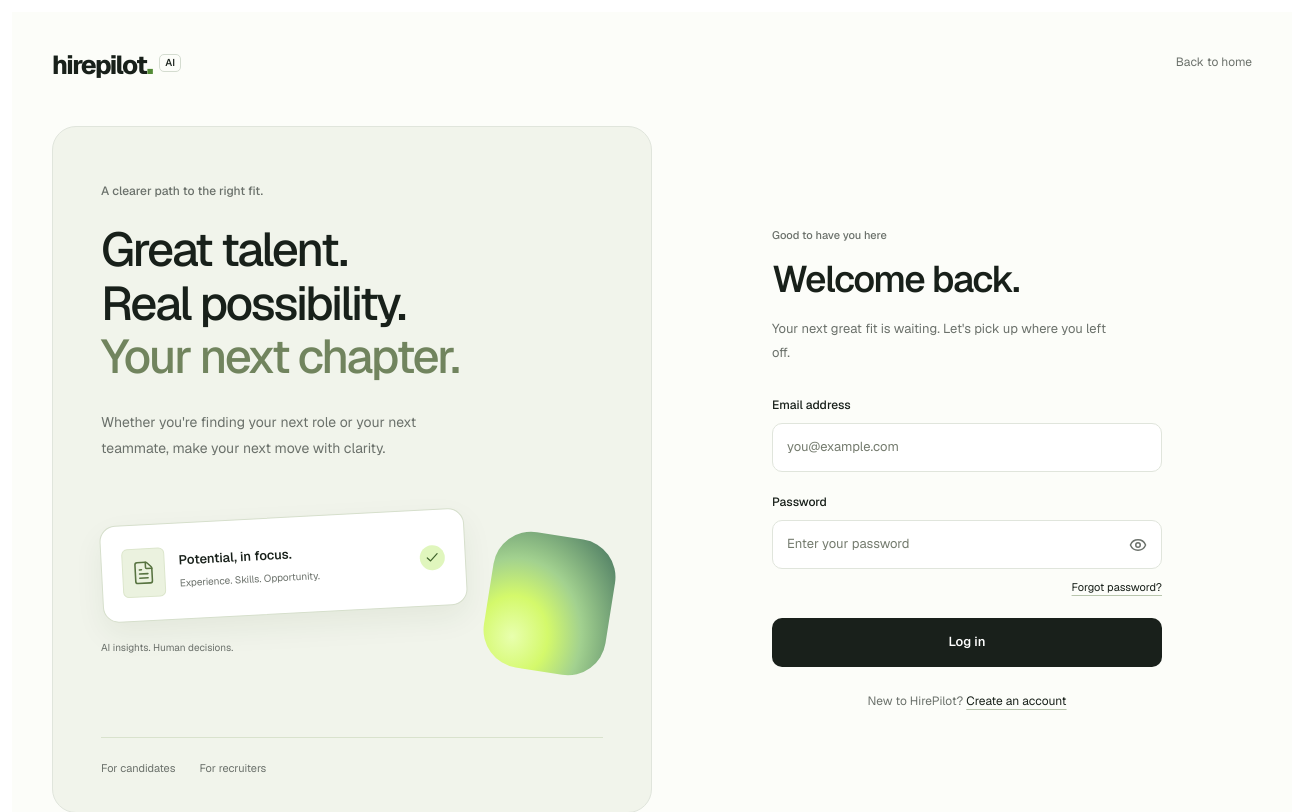
Test case: real forms, provider, API client, and route guards › logs in alex@example.com and redirects by role
The image size is (1292, 812).
Expected: the heading "Welcome back." is shown, [772, 255, 1019, 303]
Step 1. Type "alex@example.com" into the field labelled "Email address" → (967, 448), box [772, 423, 1162, 472]
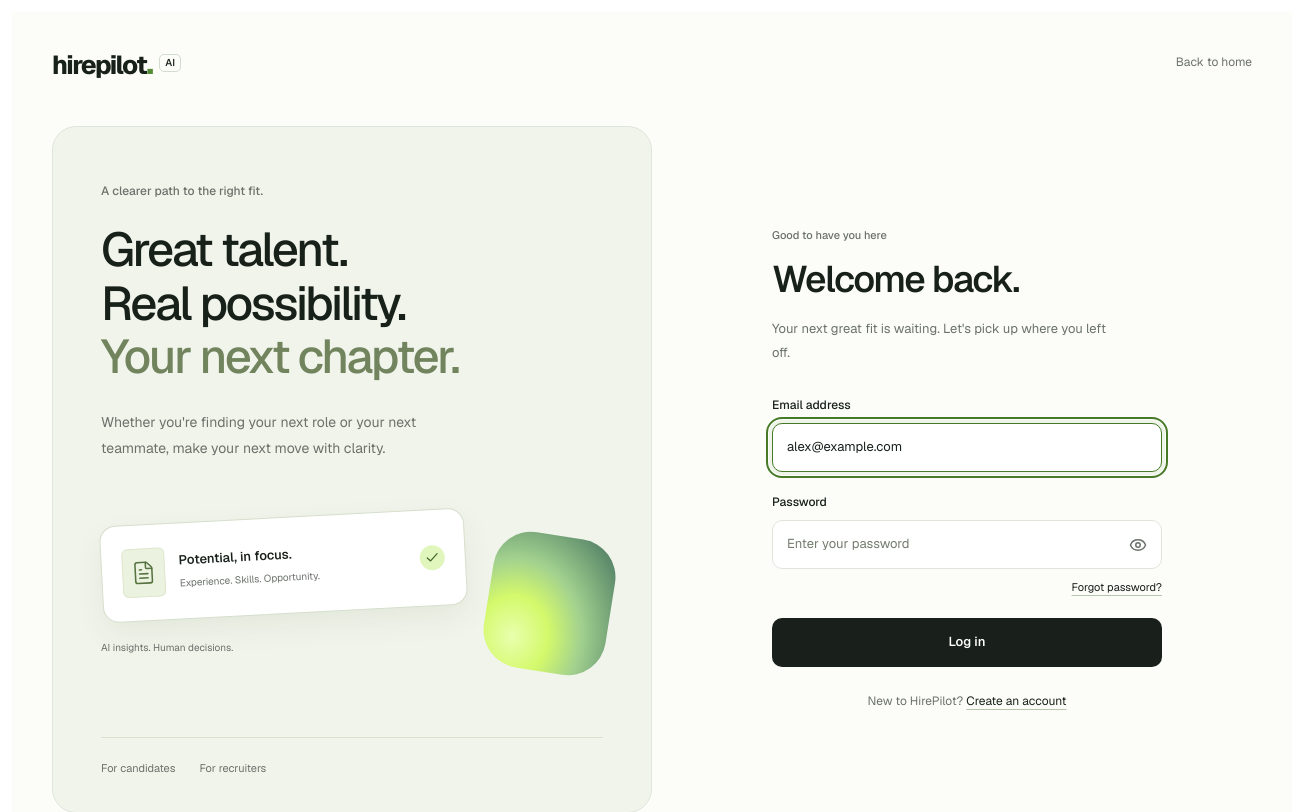
Step 2. Type "password123" into the password field labelled "Password" → (967, 545), box [772, 520, 1162, 569]
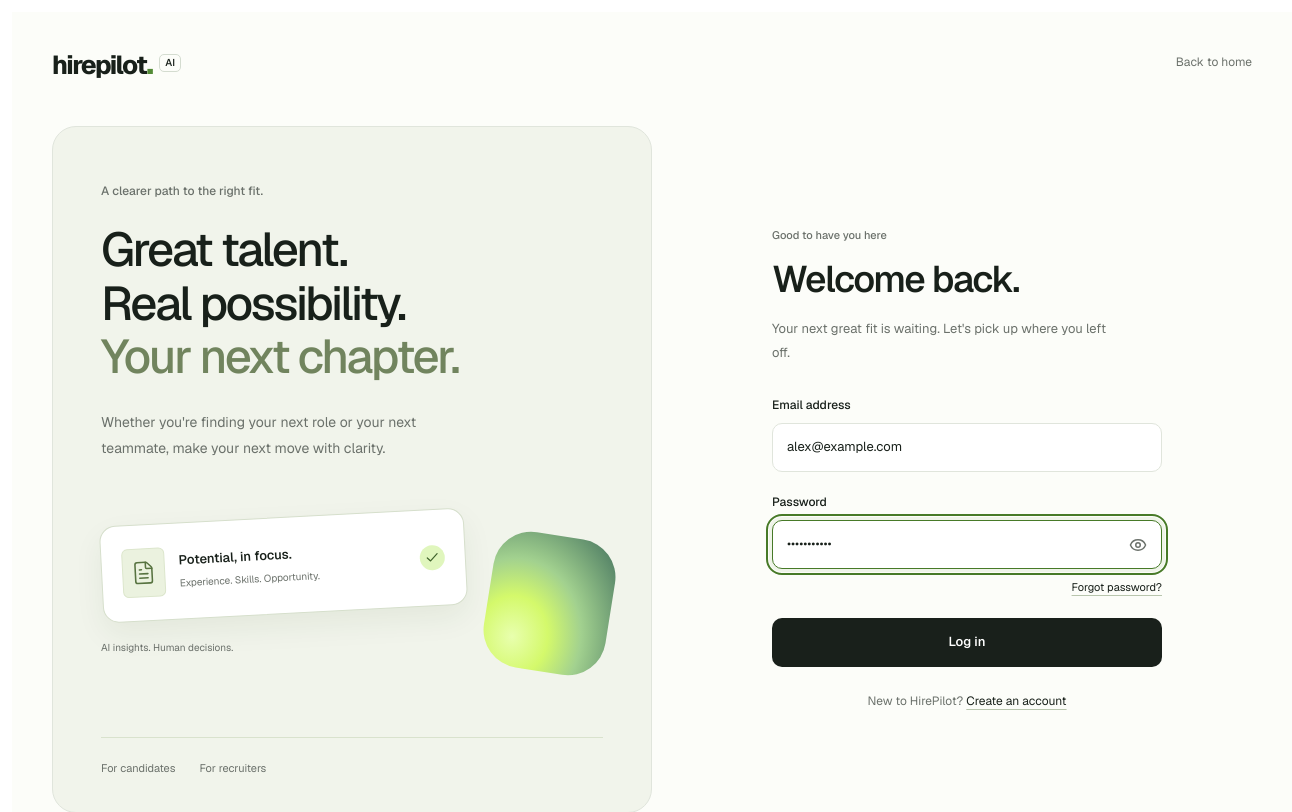
Step 3. Click the button "Log in" → (967, 642), box [772, 618, 1162, 667]
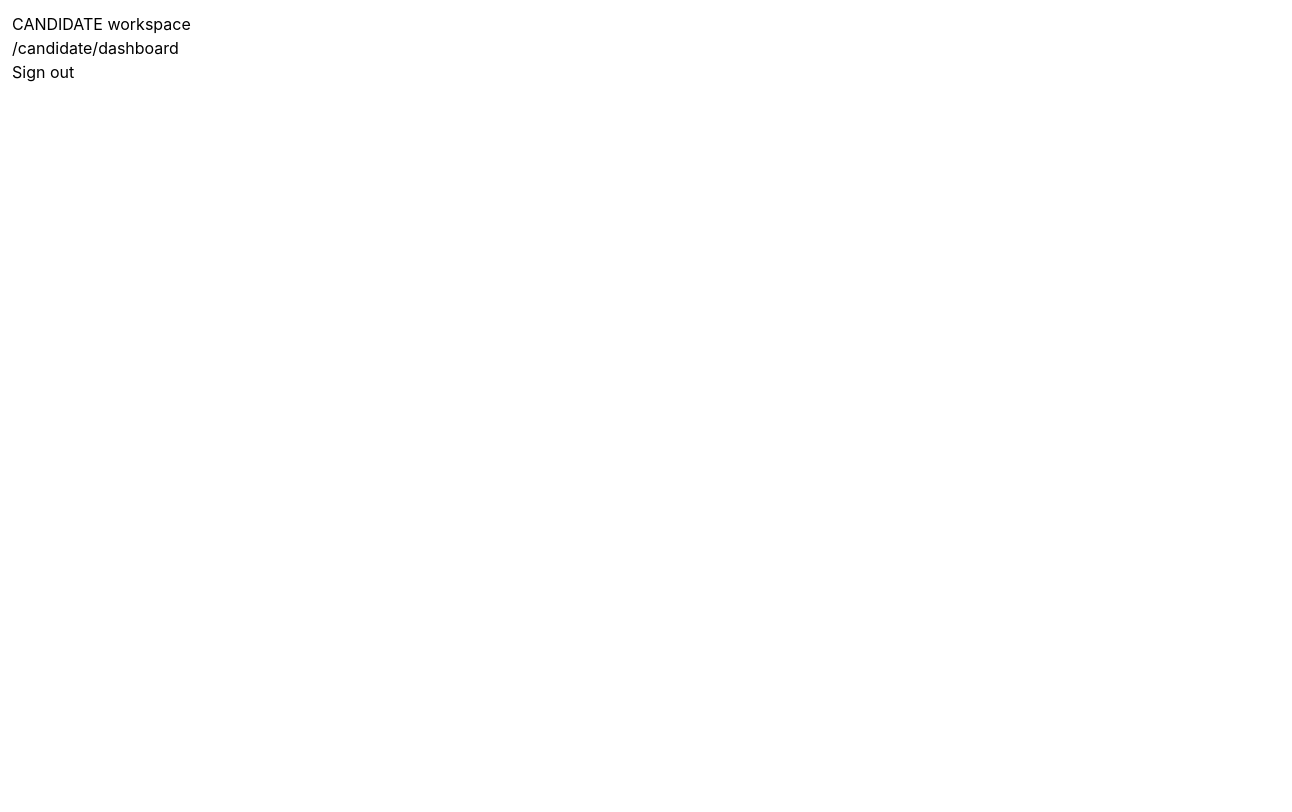
Expected: the heading "CANDIDATE workspace" is shown, [12, 14, 191, 34]
